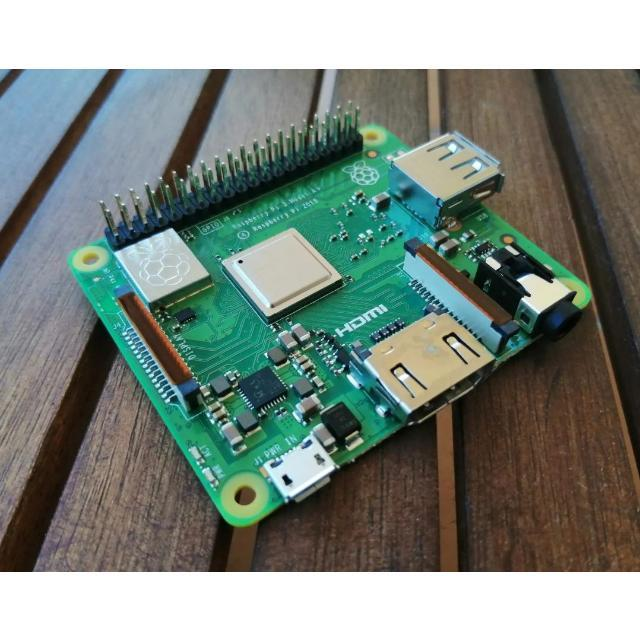Raspberry-Pi-3-A-: (69, 106, 590, 527)
